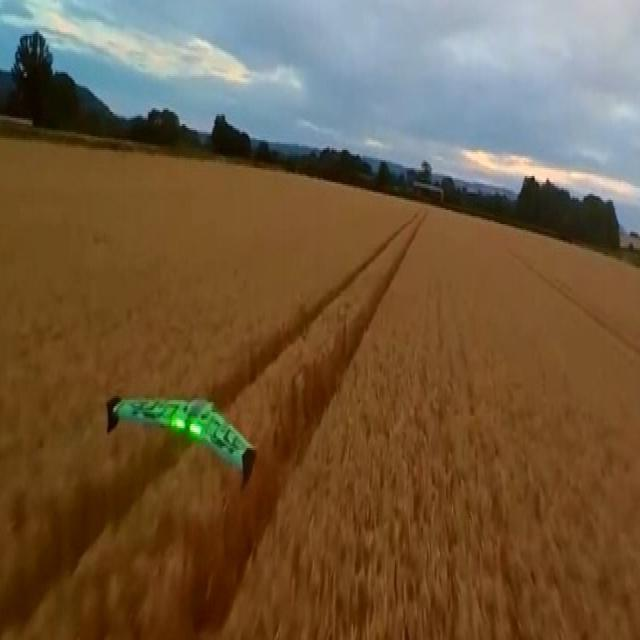plane: (103, 392, 258, 489)
